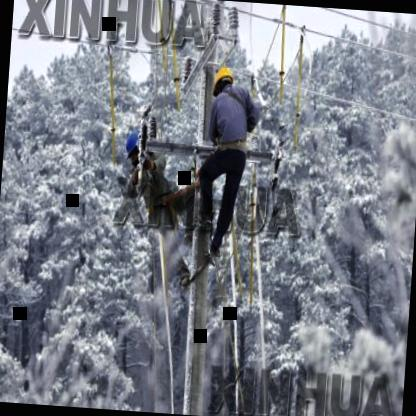helmet: (119, 129, 152, 171), (208, 66, 236, 101)
